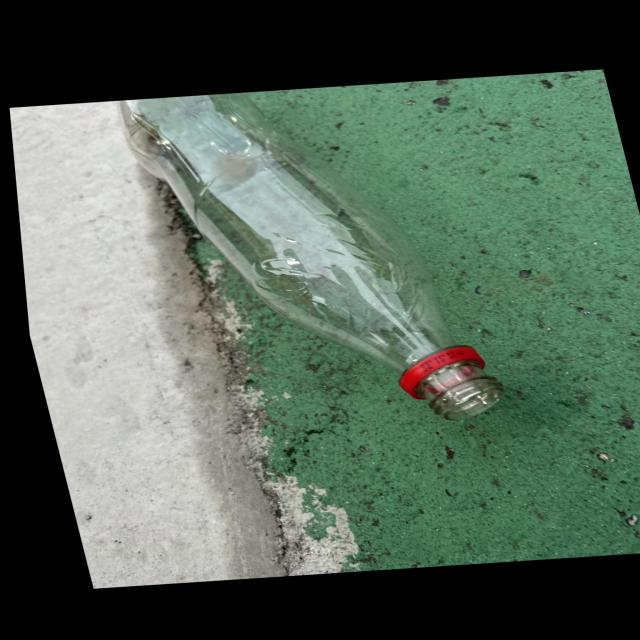empty: (118, 94, 503, 420)
